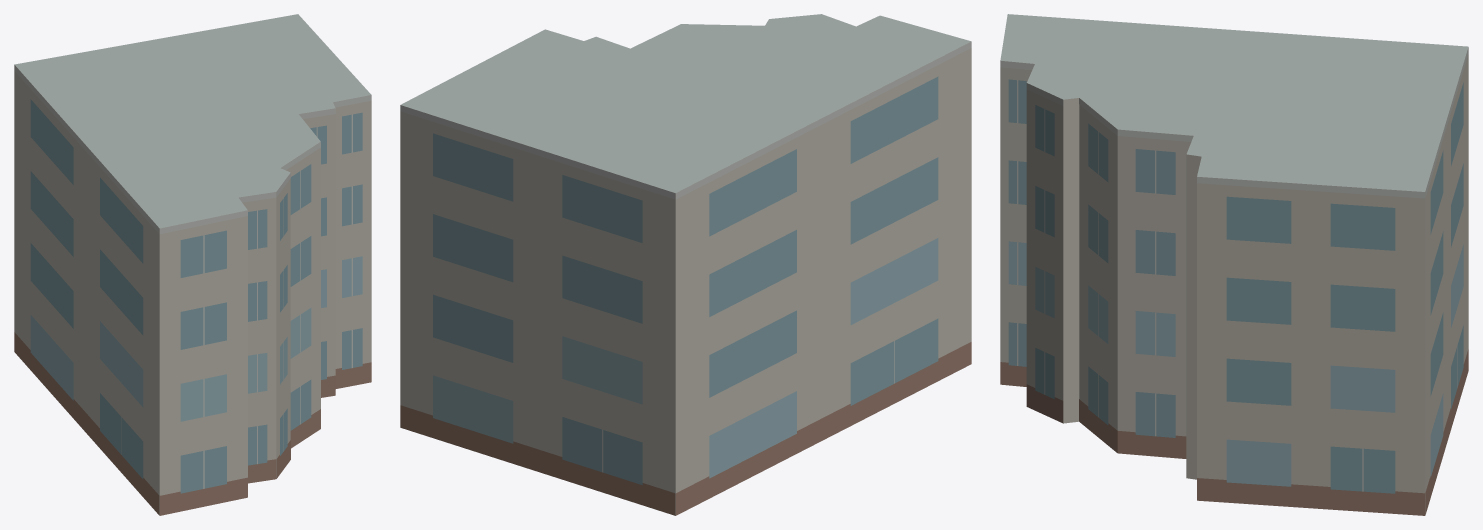
The model's file is survey-upis-32649534.glb.
3 renders of one model, left to right at view 1: azimuth 30°, elevation 25°; view 2: azimuth 150°, elevation 25°; view 3: azimuth 270°, elevation 25°, orthographic. The views are drawn at different scales.
Parts seen in each view (by area): view 1: survey-upis-32649534.tmp; view 2: survey-upis-32649534.tmp; view 3: survey-upis-32649534.tmp.
Boxes of the visible parts, bbox=[...] form: survey-upis-32649534.tmp: bbox=[14, 14, 371, 515]; survey-upis-32649534.tmp: bbox=[400, 14, 971, 515]; survey-upis-32649534.tmp: bbox=[1000, 14, 1468, 515].
Size of the model in its own units: 14.39 by 12.2 by 16.
